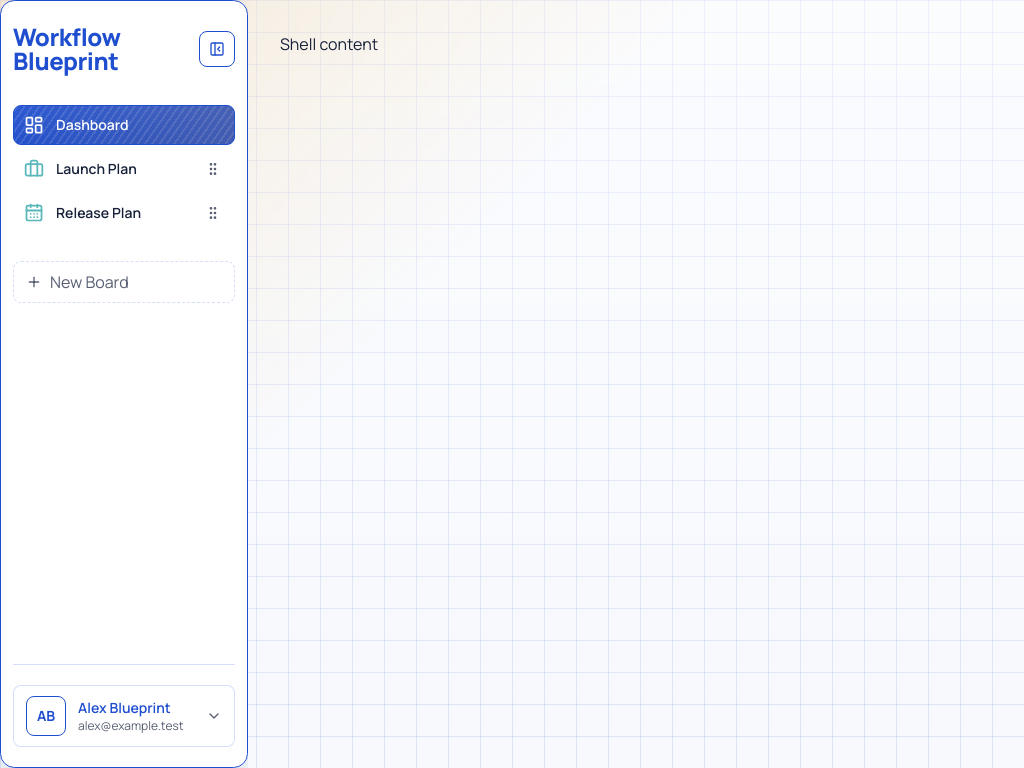
Test: AppShell collapsible sidebar › collapses when the collapse toggle is clicked
Click the button named "Collapse sidebar" at (217, 49), box [199,31,235,67]
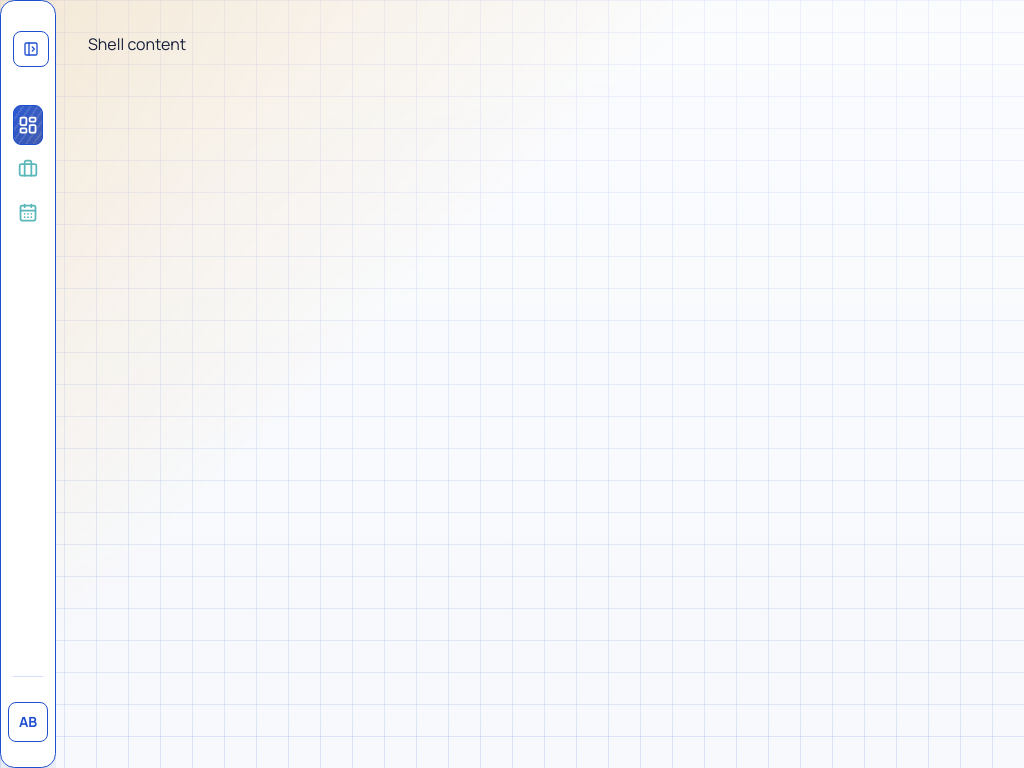
Now the link "Workflow" is gone
Now the link "Blueprint" is gone
Now the text "Dashboard" is gone
